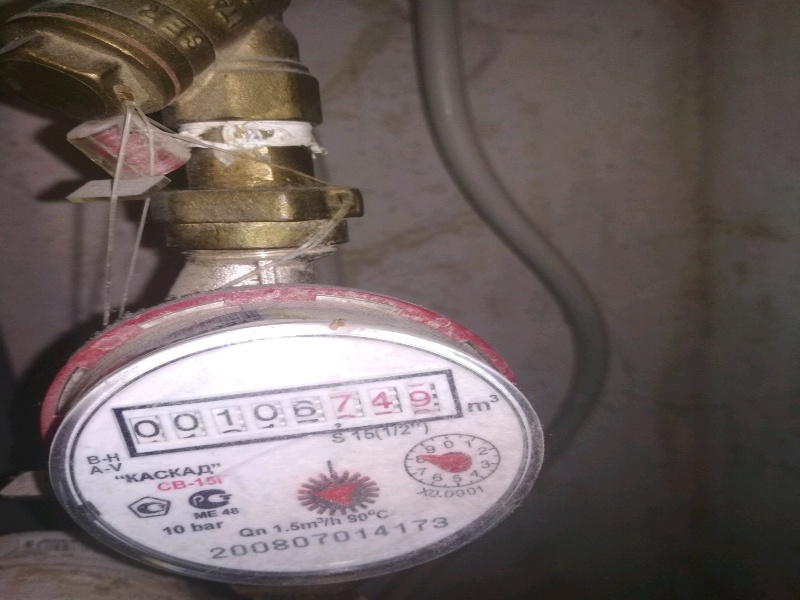meter: (110, 393, 455, 440)
